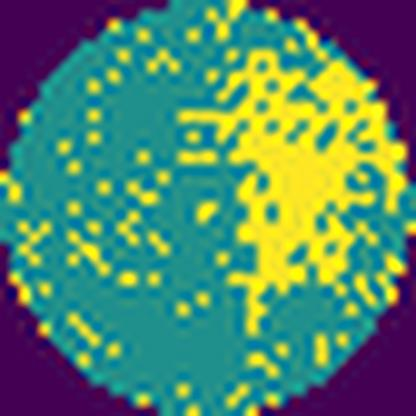Loc: (177, 48, 404, 337)
